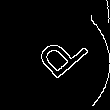P_SW: (23, 24, 87, 86)
